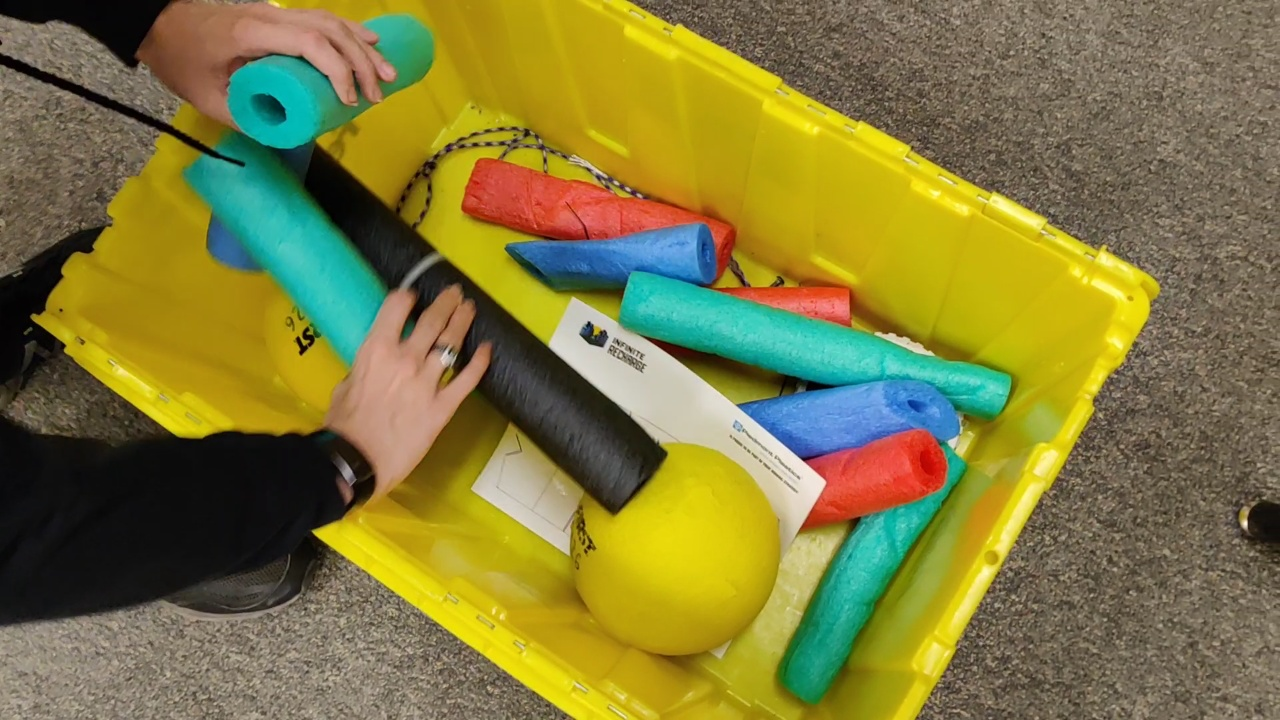Ball: (571, 445, 782, 657)
